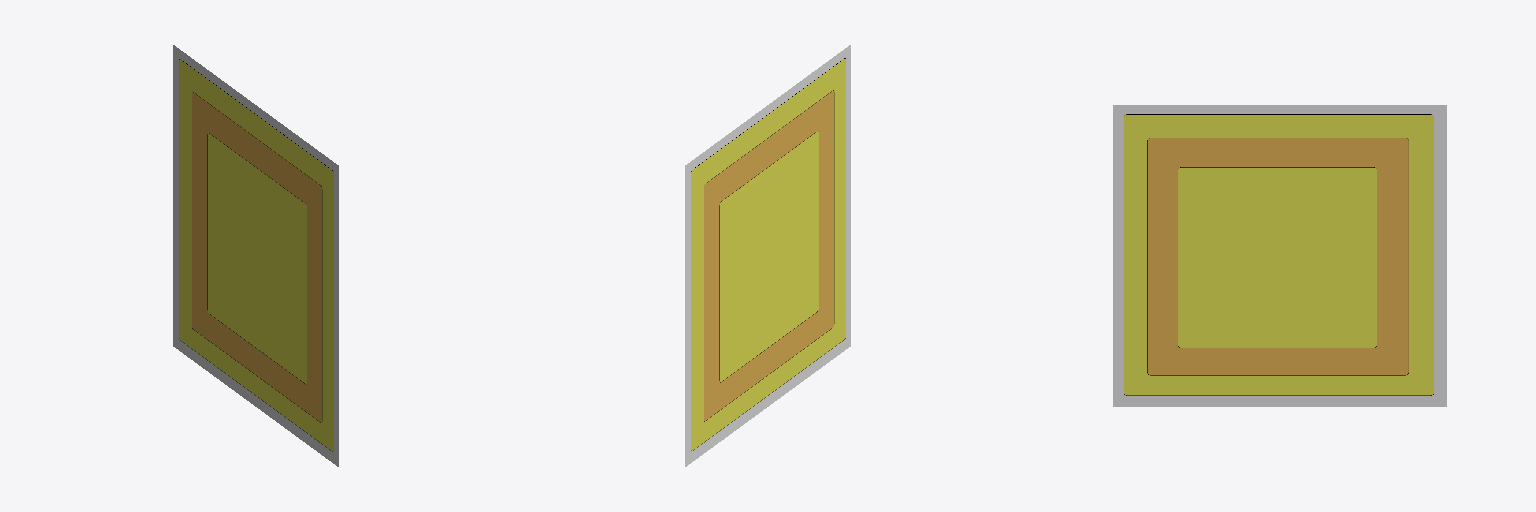
3 views of the same model, side by side, from view 1: azimuth 30°, elevation 25°; view 2: azimuth 150°, elevation 25°; view 3: azimuth 270°, elevation 25° (orthographic).
Parts seen in each view (by area): view 1: polySurface2 polySurface1; view 2: polySurface2 polySurface1; view 3: polySurface2 polySurface1.
Boxes of the visible parts, x1=… form: polySurface2 polySurface1: x1=173, y1=45, x2=338, y2=466; polySurface2 polySurface1: x1=685, y1=45, x2=850, y2=466; polySurface2 polySurface1: x1=1113, y1=105, x2=1446, y2=406.
Size of the model in its own units: 0 by 3.93 by 3.93.
Materials: 1 (1 with a texture image).